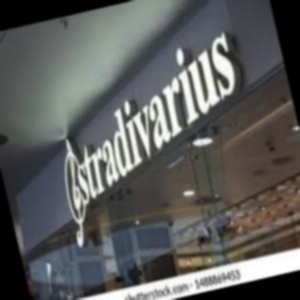stradivarius: (66, 97, 300, 100)
